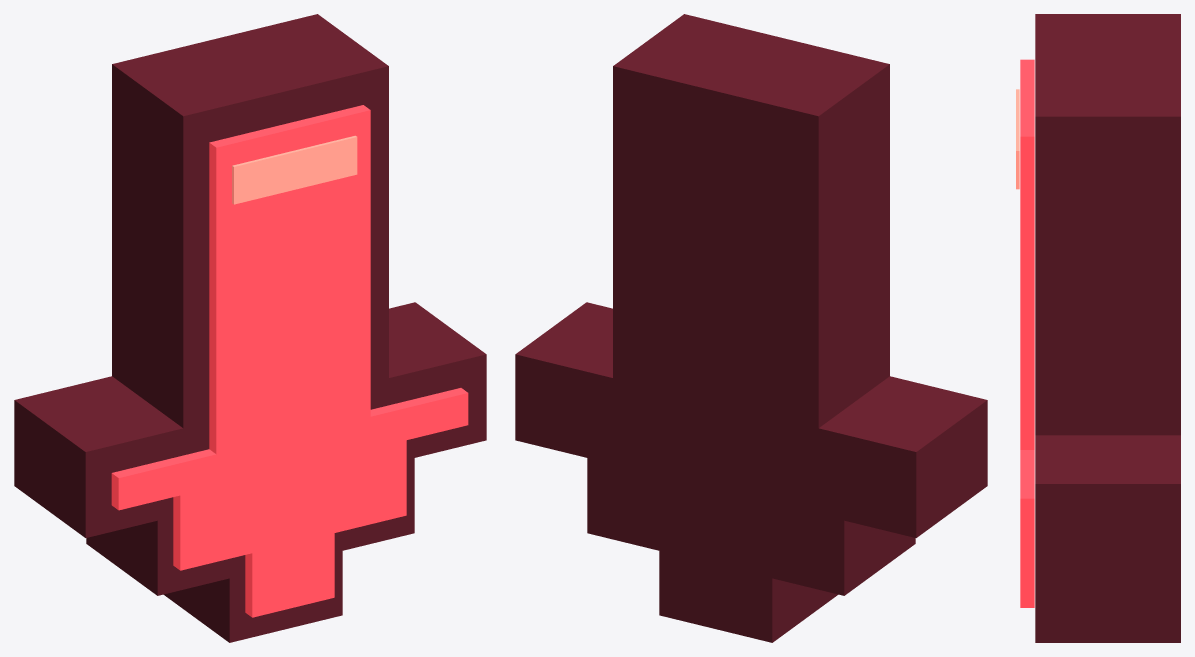
Rendered from gotham_selection_arrow.glb.
The picture shows the model from 3 angles, left to right: view 1: azimuth 30°, elevation 25°; view 2: azimuth 150°, elevation 25°; view 3: azimuth 270°, elevation 25°; orthographic projection. The views are drawn at different scales.
Parts seen in each view (by area): view 1: Maroon_Stepped_Outline, Bright_Red_Face, Top_Glint; view 2: Maroon_Stepped_Outline; view 3: Maroon_Stepped_Outline, Bright_Red_Face, Top_Glint.
Boxes of the visible parts, x1,y1,x2,y2 form: Maroon_Stepped_Outline: (14, 14, 486, 642); Bright_Red_Face: (111, 105, 468, 617); Top_Glint: (232, 135, 357, 204); Maroon_Stepped_Outline: (515, 14, 987, 642); Maroon_Stepped_Outline: (1035, 14, 1180, 642); Bright_Red_Face: (1020, 59, 1034, 607); Top_Glint: (1016, 89, 1019, 189).
Size of the model in its own units: 0.78 by 1 by 0.272.
